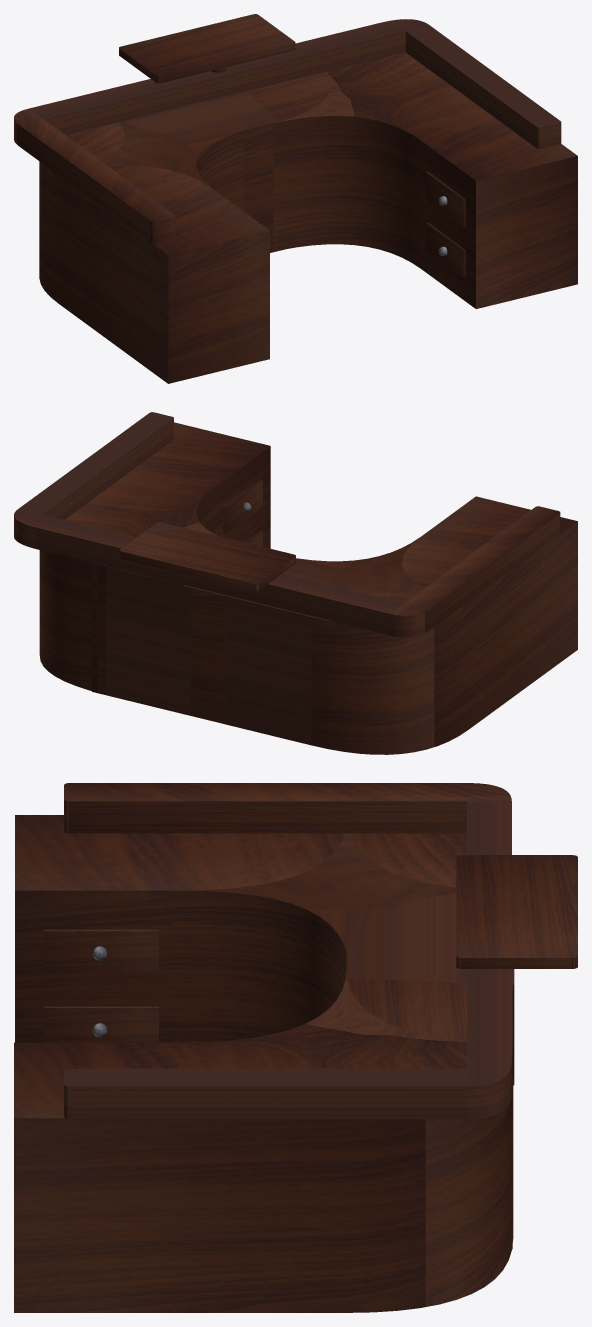
The model's file is Reception Desk.FBX.
3 views of the same model, one above another, from view 1: azimuth 30°, elevation 25°; view 2: azimuth 150°, elevation 25°; view 3: azimuth 270°, elevation 25° (orthographic). The views are drawn at different scales.
Parts seen in each view (by area): view 1: Box002, Box001, Box004, Box005, Box003, Box009, Box008; view 2: Box001, Box002, Box004, Box005, Box003, Box009; view 3: Box002, Box001, Box004, Box005, Box003, Box006, Box007.
Boxes of the visible parts, x1,y1,x2,y2 form: Box002: (247,52,577,308); Box001: (39,91,278,383); Box004: (14,19,561,243); Box005: (119,14,295,83); Box003: (244,72,330,252); Box009: (426,171,465,226); Box008: (426,222,465,277); Box001: (184,496,577,754); Box002: (39,422,270,723); Box004: (14,412,560,637); Box005: (119,522,295,591); Box003: (91,563,226,724); Box009: (223,479,262,534); Box002: (14,968,513,1312); Box001: (15,815,514,1085); Box004: (64,783,511,1119); Box005: (456,855,577,968); Box003: (346,954,512,1248); Box006: (44,929,158,972); Box007: (44,1006,158,1042).
Bounding box in the file's own units: 118 × 46.35 × 92.74.
2 materials, 2 textured.
